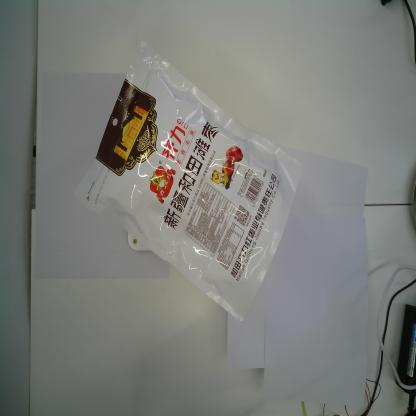Dried Food: (72, 38, 304, 324)
